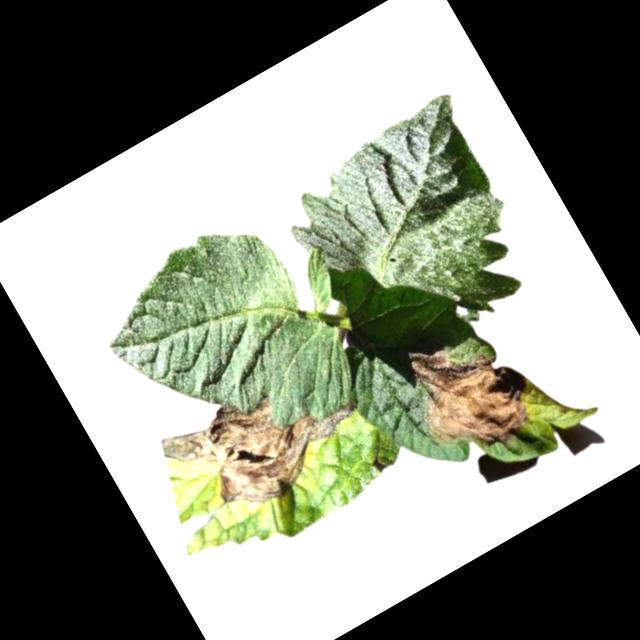Late_blight: (156, 345, 378, 539), (392, 314, 552, 480)
healthy: (80, 199, 370, 495), (263, 90, 555, 383)
